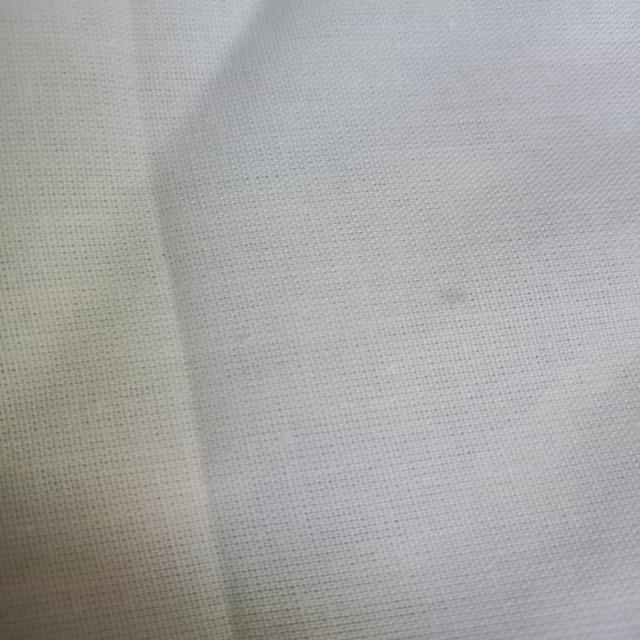stain: (432, 272, 485, 316)
